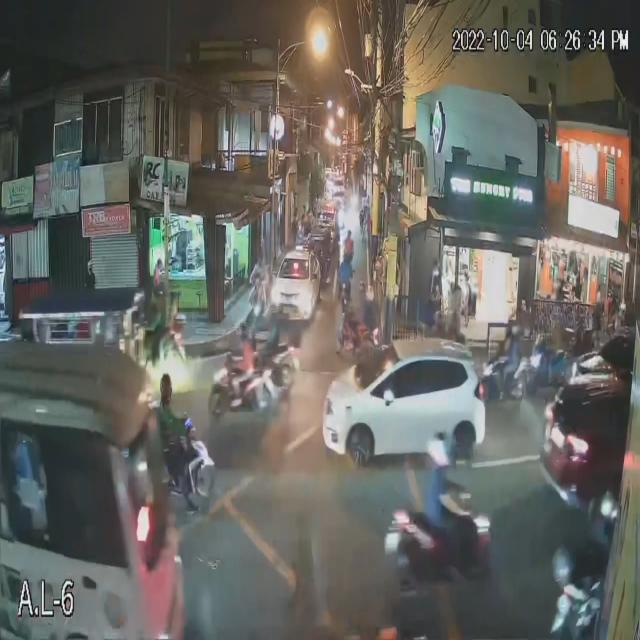Full-Faced: (428, 433, 458, 472), (156, 372, 176, 406), (236, 322, 249, 345)
